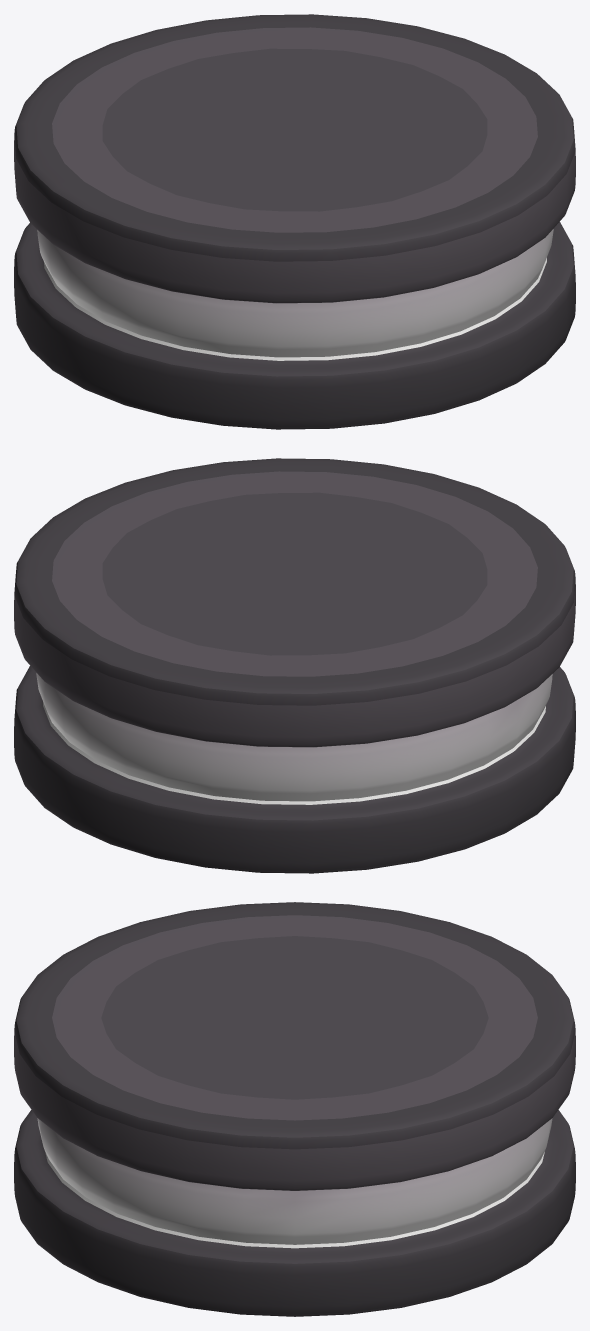
File: Biscuit 2.fbx
3 renders of one model, top to bottom at view 1: azimuth 30°, elevation 25°; view 2: azimuth 150°, elevation 25°; view 3: azimuth 270°, elevation 25°, orthographic.
Visible parts, largest first — view 1: Biscuit 2; view 2: Biscuit 2; view 3: Biscuit 2.
Boxes of the visible parts, x1,y1,x2,y2 form: Biscuit 2: (14, 14, 575, 429); Biscuit 2: (14, 458, 575, 873); Biscuit 2: (14, 902, 575, 1316).
Size of the model in its own units: 12.71 by 4.57 by 12.71.
